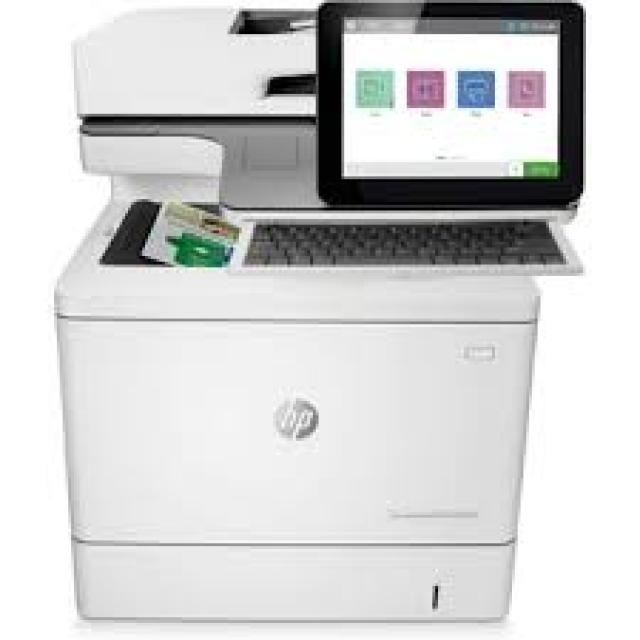printer: (51, 0, 569, 623)
